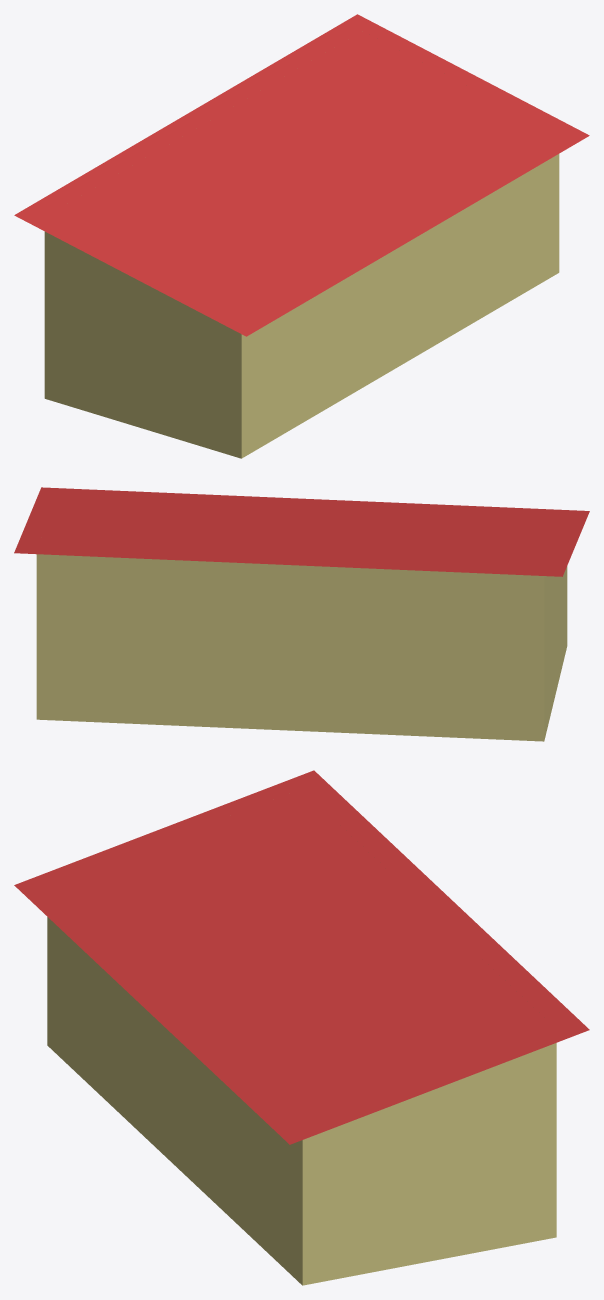
3 renders of one model, top to bottom at view 1: azimuth 30°, elevation 25°; view 2: azimuth 150°, elevation 25°; view 3: azimuth 270°, elevation 25°, orthographic. The views are drawn at different scales.
Bounding box in the file's own units: 29.8 × 22.91 × 9.34.
